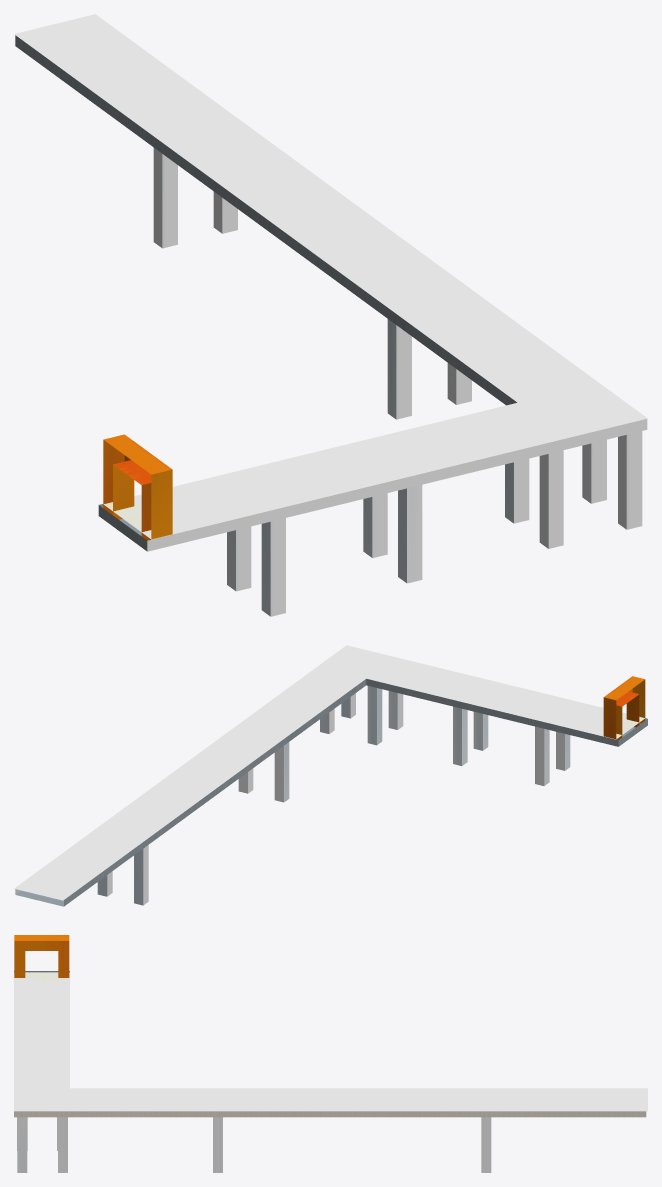
Rendered from Bridge.obj.
The picture shows the model from 3 angles, top to bottom: view 1: azimuth 30°, elevation 25°; view 2: azimuth 150°, elevation 25°; view 3: azimuth 270°, elevation 25°; orthographic projection. The views are drawn at different scales.
Parts seen in each view (by area): view 1: Bridge; view 2: Bridge; view 3: Bridge.
Part boxes in pixels (x1=…): Bridge: x1=14, y1=14, x2=647, y2=616; Bridge: x1=14, y1=645, x2=647, y2=906; Bridge: x1=14, y1=935, x2=647, y2=1172.
Bounding box in the file's own units: 23.68 × 7.85 × 45.27.
1 material, 1 textured.
